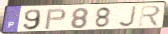8: (70, 7, 90, 30), (95, 6, 113, 29)
9: (22, 8, 43, 31)
J: (117, 6, 138, 28)
P: (44, 8, 68, 30)
R: (138, 5, 162, 27)
